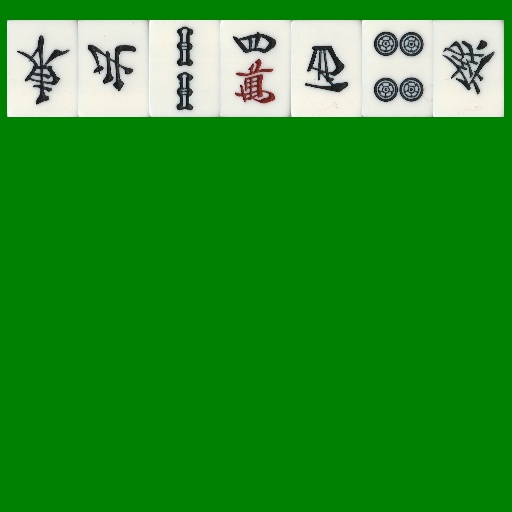2s: (149, 20, 220, 117)
4m: (220, 20, 291, 117)
4p: (362, 20, 433, 117)
east: (7, 20, 78, 117)
hatsu: (433, 20, 504, 117)
north: (78, 20, 149, 117)
west: (291, 20, 362, 117)
